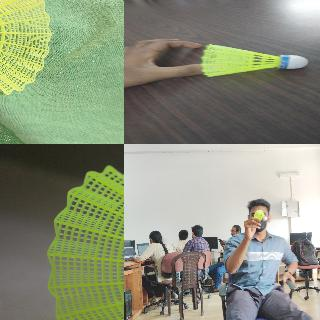shuttlecock: (47, 164, 123, 319), (0, 0, 51, 94), (200, 44, 305, 77), (254, 210, 266, 220)
